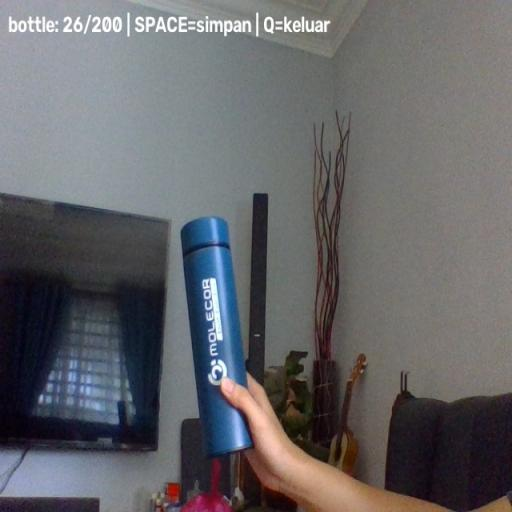Bottle: (180, 216, 254, 458)
